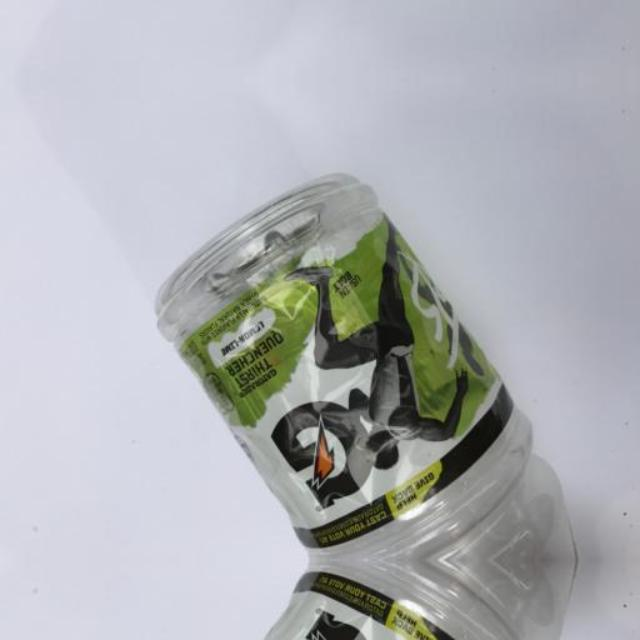Plastic: (122, 175, 580, 560), (122, 559, 580, 640)
